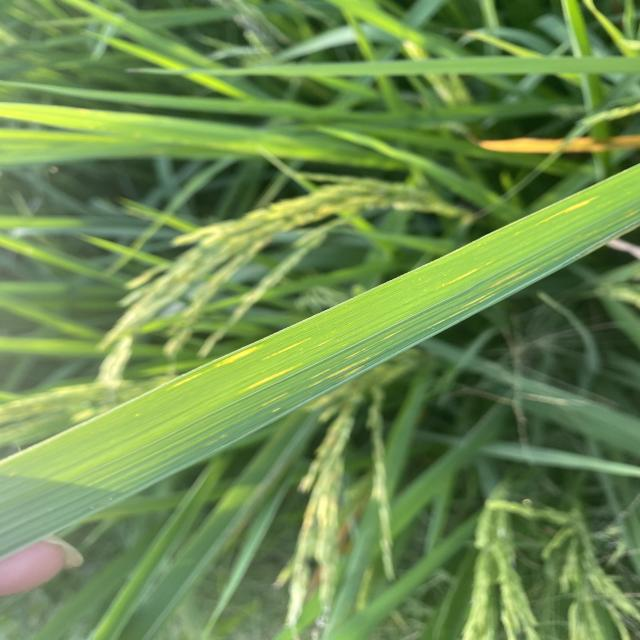Dom soc vi khuan: (307, 352, 380, 388), (239, 362, 303, 395), (215, 344, 264, 367), (267, 337, 312, 359), (173, 372, 203, 388), (339, 365, 365, 379), (345, 348, 366, 359)
